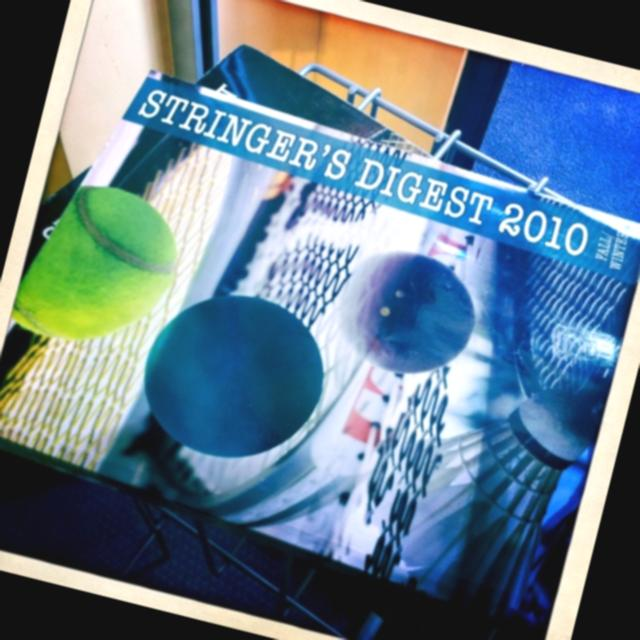Tennis ball: (6, 163, 202, 372)
